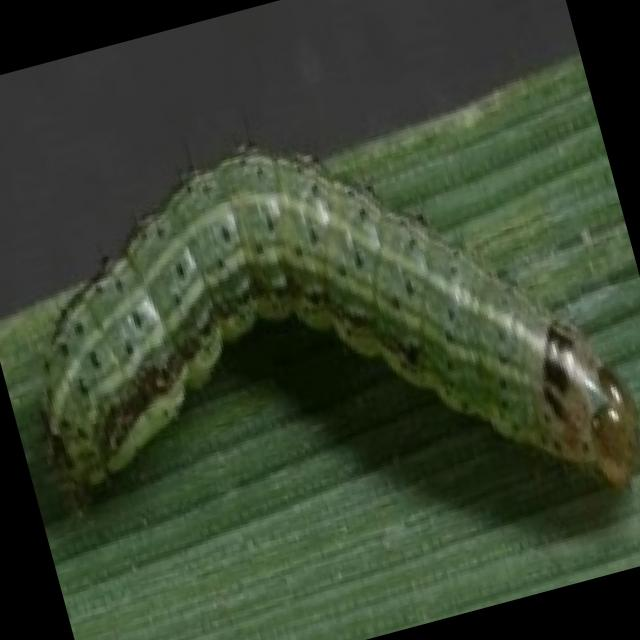armyworm: (1, 20, 640, 640)
